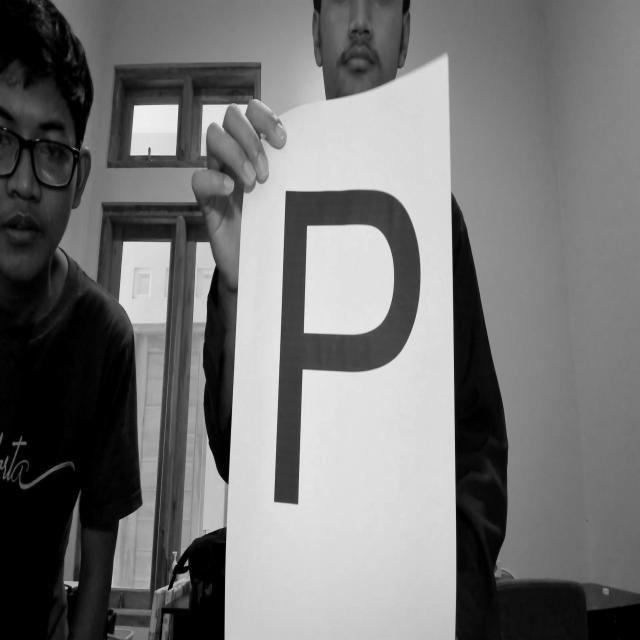p: (256, 157, 425, 545)
